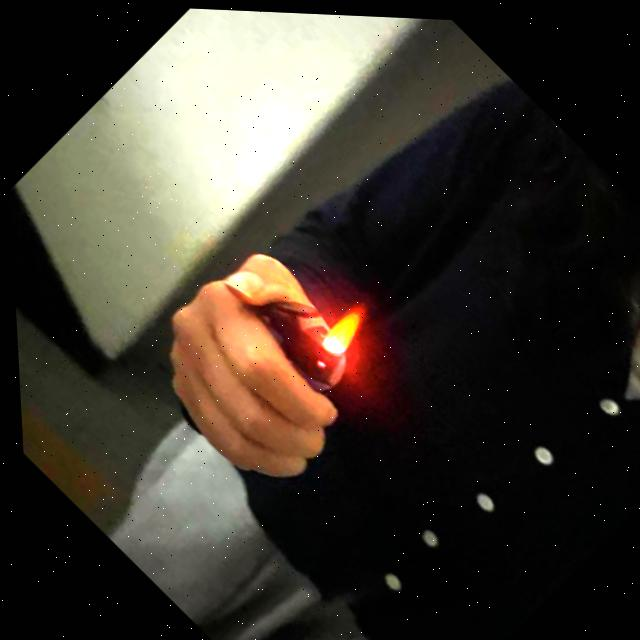Fire: (315, 296, 371, 352)
